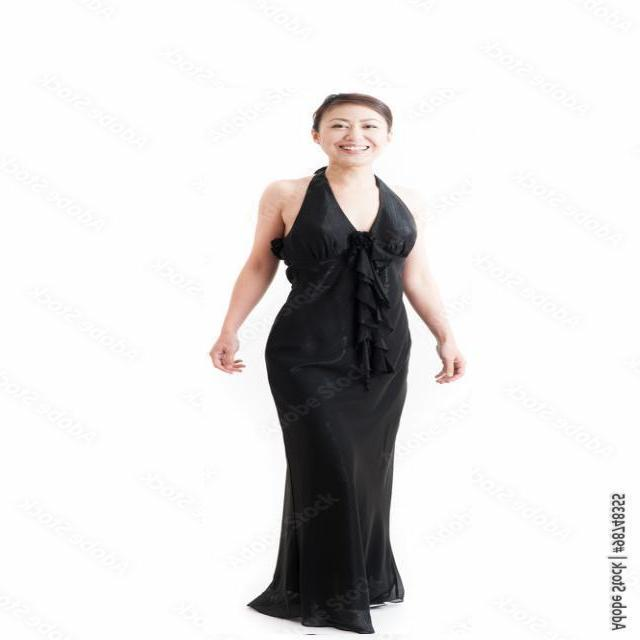direk: (204, 88, 472, 634)
